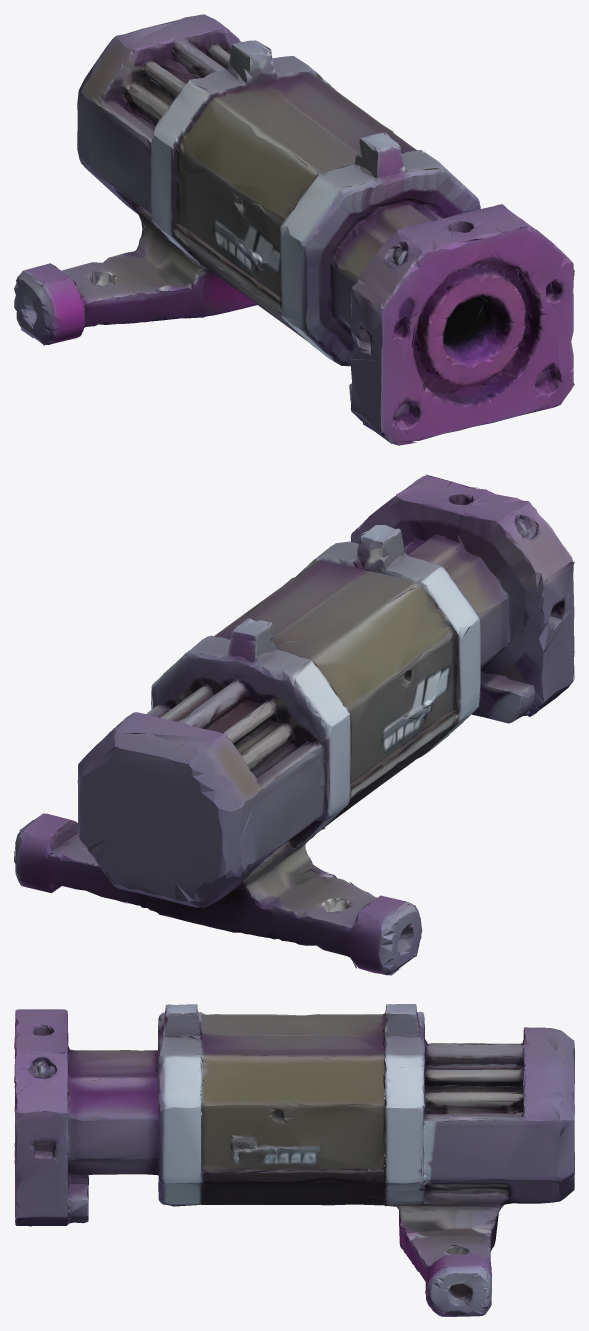
Rendered from drifttuner_gatling.glb.
The picture shows the model from 3 angles, top to bottom: view 1: azimuth 30°, elevation 25°; view 2: azimuth 150°, elevation 25°; view 3: azimuth 270°, elevation 25°; orthographic projection. The views are drawn at different scales.
Visible parts, largest first — view 1: Gatling_Drift_Tuner; view 2: Gatling_Drift_Tuner; view 3: Gatling_Drift_Tuner.
Boxes of the visible parts, <box> form: Gatling_Drift_Tuner: <box>14,14,574,445</box>; Gatling_Drift_Tuner: <box>14,474,574,975</box>; Gatling_Drift_Tuner: <box>14,1004,574,1316</box>.
Size of the model in its own units: 0.5346 by 0.369 by 0.8022.
1 material, 1 textured.
